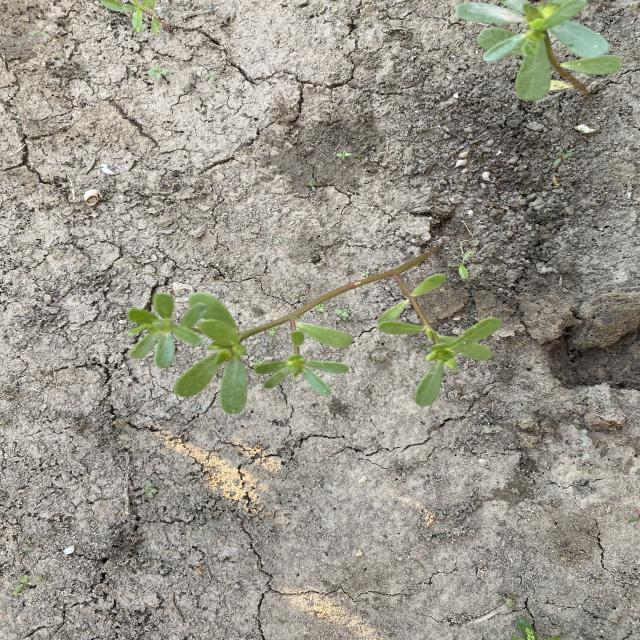Purslane: (122, 242, 506, 415), (452, 0, 624, 103)
Waterhemp: (100, 0, 178, 37)
